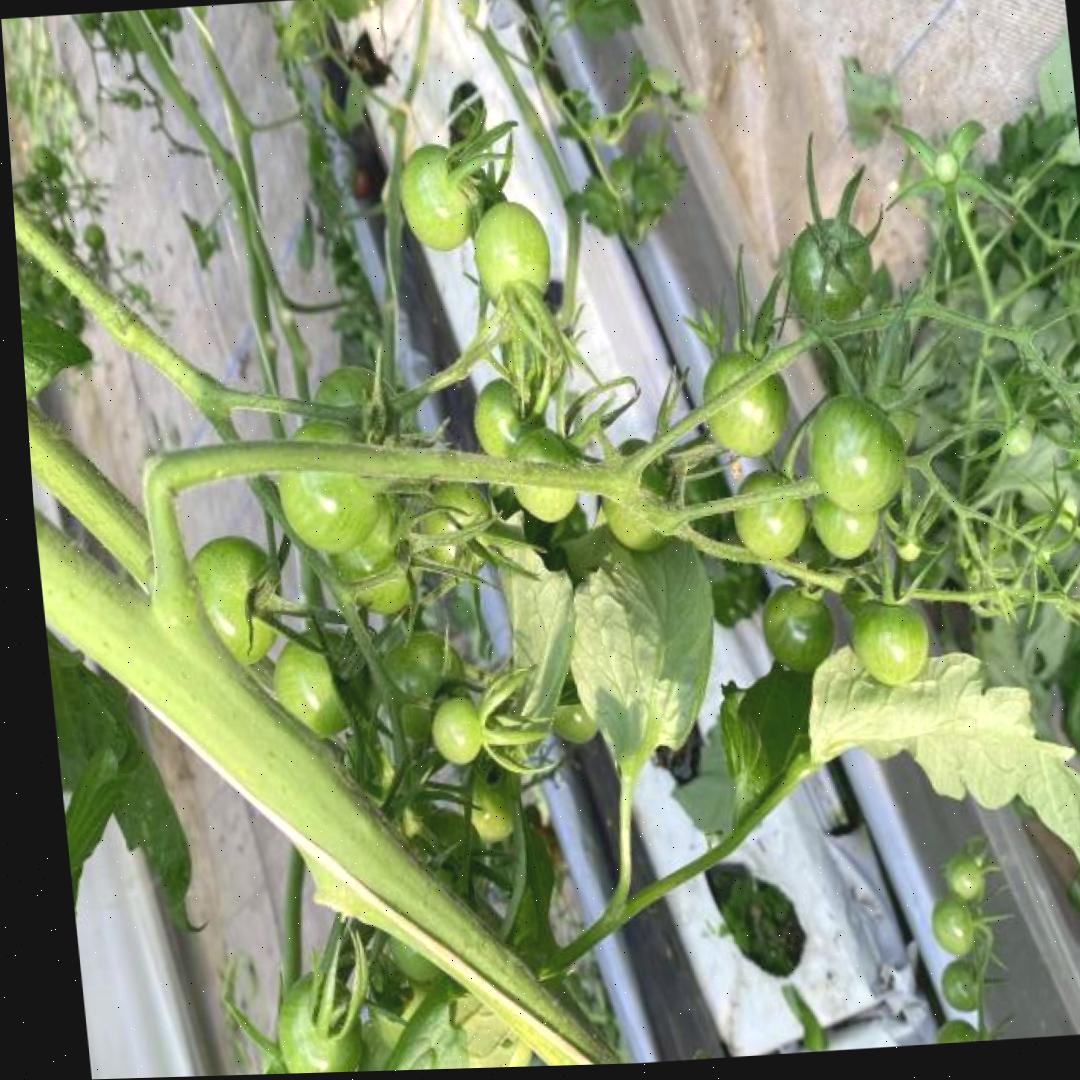mentah: (269, 417, 385, 563), (799, 387, 911, 520), (779, 214, 881, 332), (391, 138, 487, 258), (697, 345, 796, 459), (470, 195, 556, 320), (270, 966, 367, 1074), (848, 587, 934, 689), (756, 579, 839, 679), (728, 465, 809, 566), (505, 425, 584, 526), (427, 694, 484, 766)
